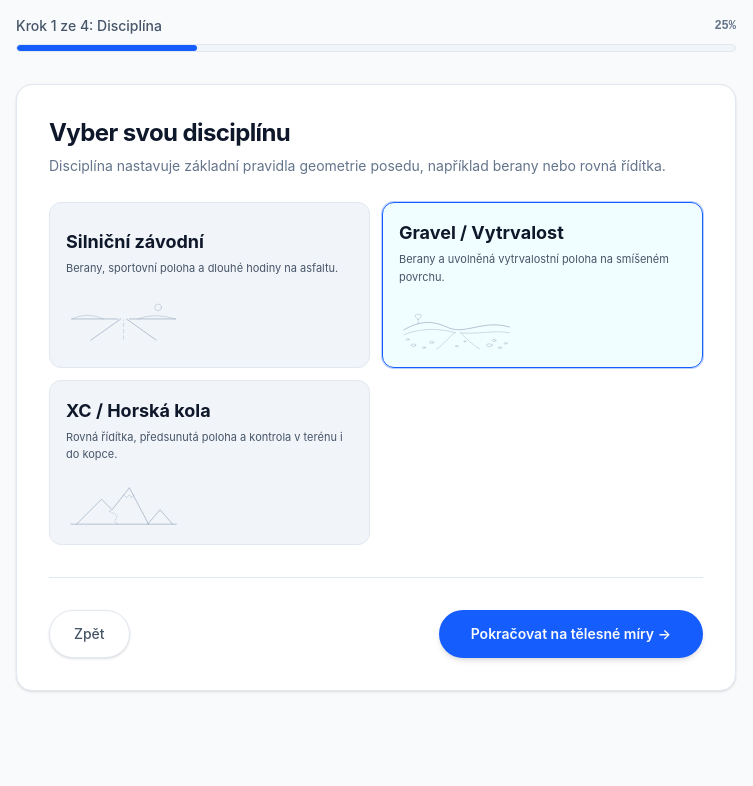
Scenario: MeasurementWizard (cs) › should render step 2 (body measurements without the riding style picker)
Step 1. Click the button "Pokračovat na tělesné míry →" → click(571, 634), box 439,610 -> 703,658
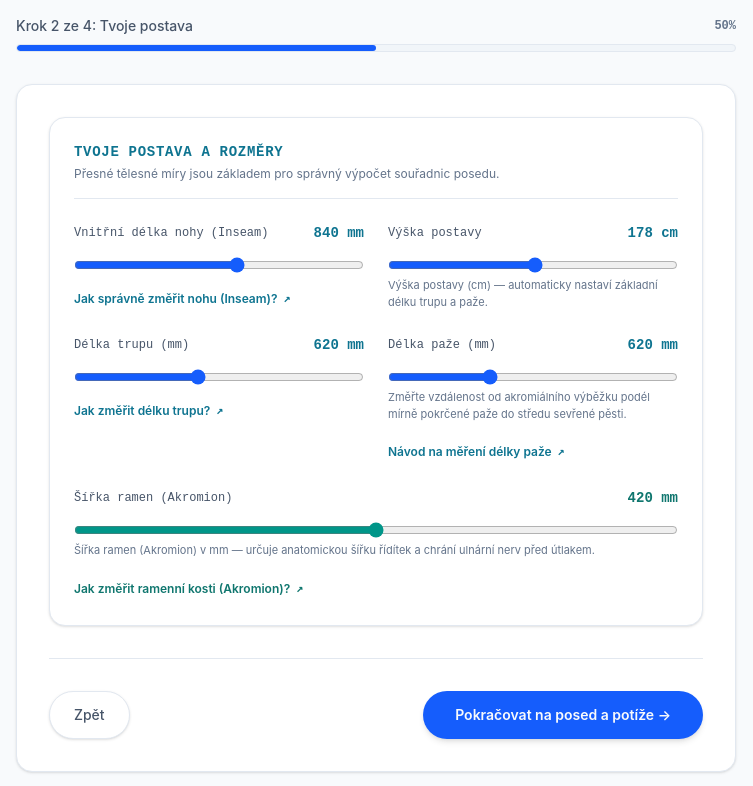
expect the text "Krok 2 ze 4: Tvoje postava" is shown: met, box 16,16 -> 193,36
expect the button with test id "inseam-guide-trigger" is shown: met, box 74,287 -> 291,311
